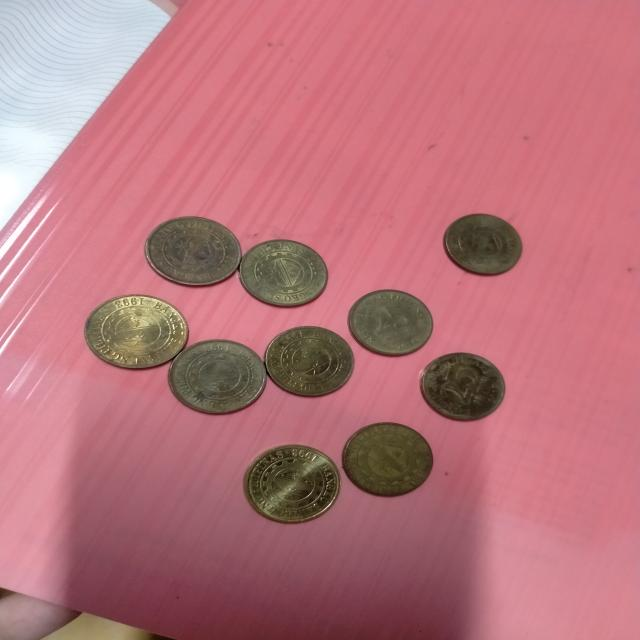25Cent_Old_Back: (94, 297, 181, 367), (251, 445, 331, 515), (271, 328, 345, 392)
